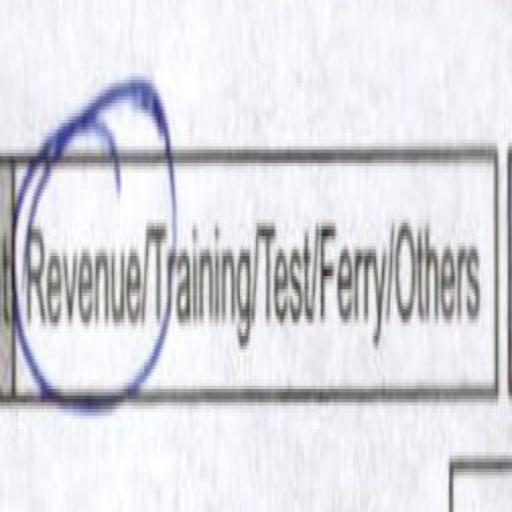check: (20, 103, 143, 443)
